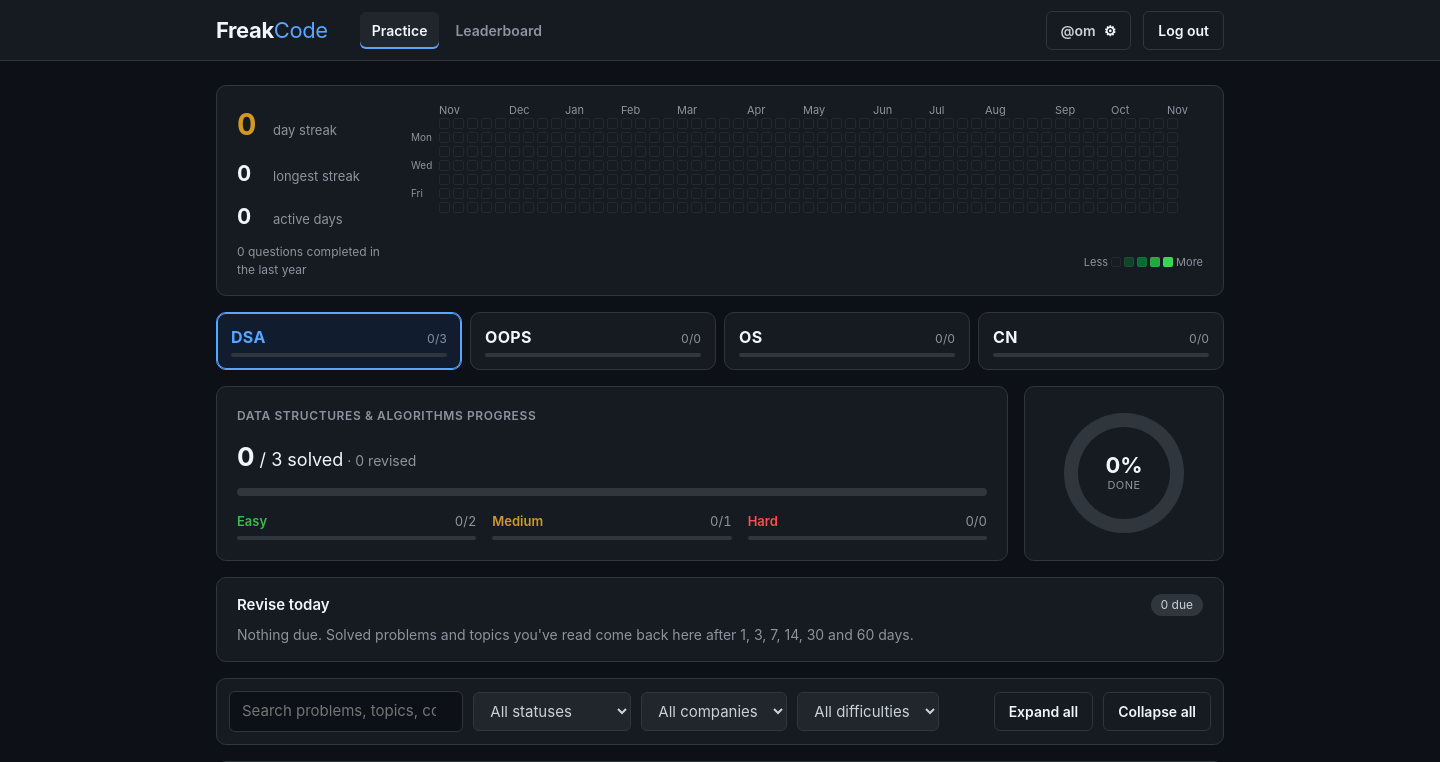
Scenario: leaderboard shows ranks, points and highlights you
Click the button "Leaderboard" at (499, 30), box [443,12,554,48]
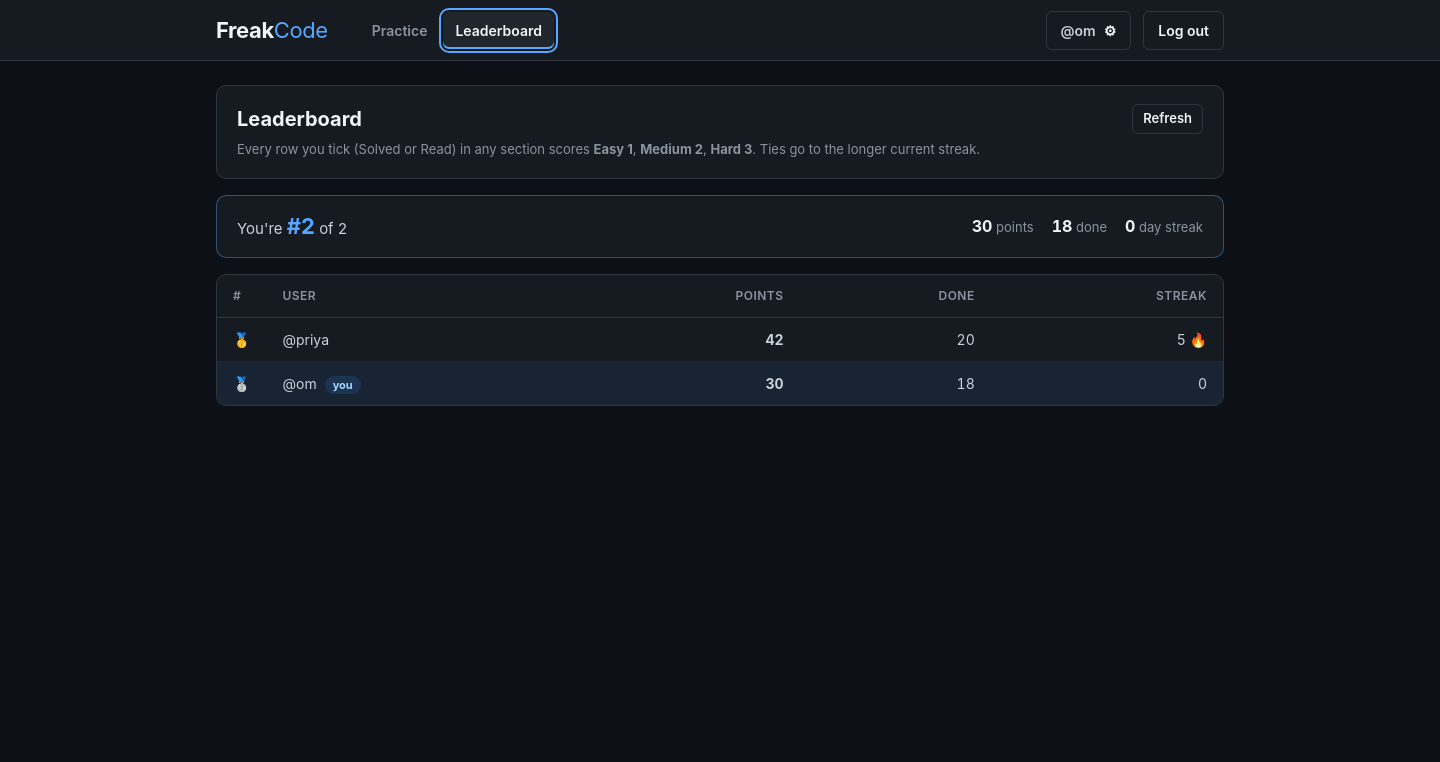
Check: the text "@priya" is shown, box [266,317,575,361]
Check: the text "You're #2 of 2" is shown, box [237,210,347,242]
Check: the text "30" below "42" is shown, box [765,374,784,392]
